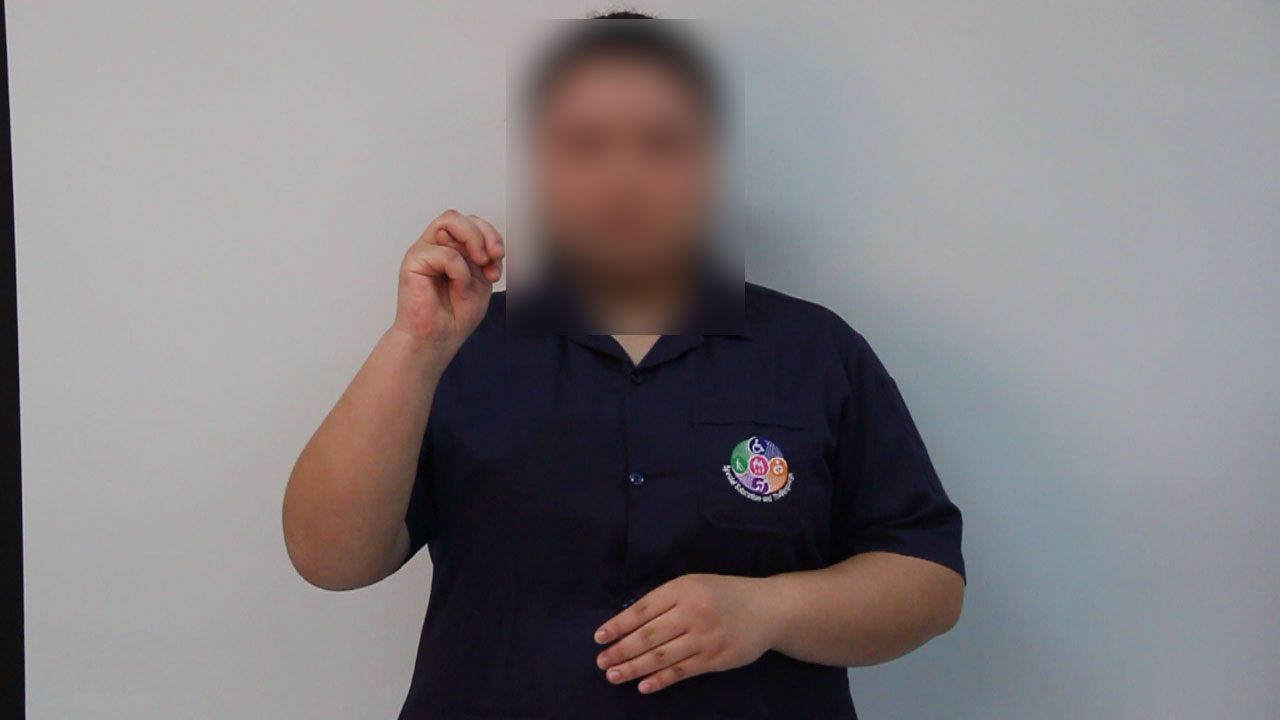mor: (390, 192, 516, 343)
